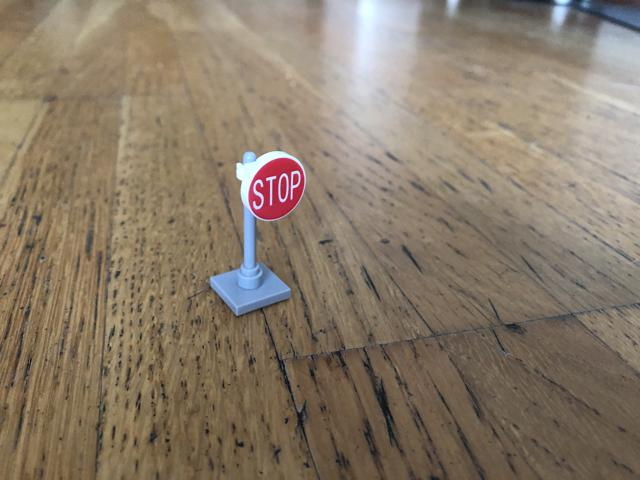stop: (242, 153, 308, 224)
